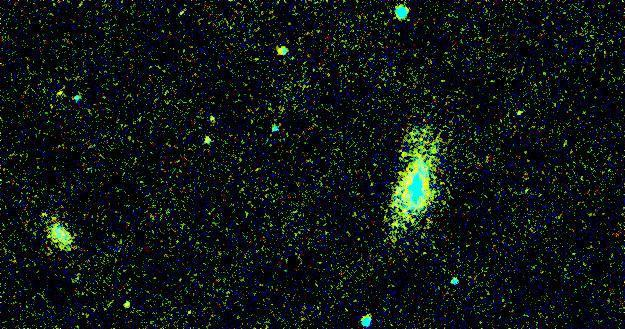star: (117, 287, 147, 317)
